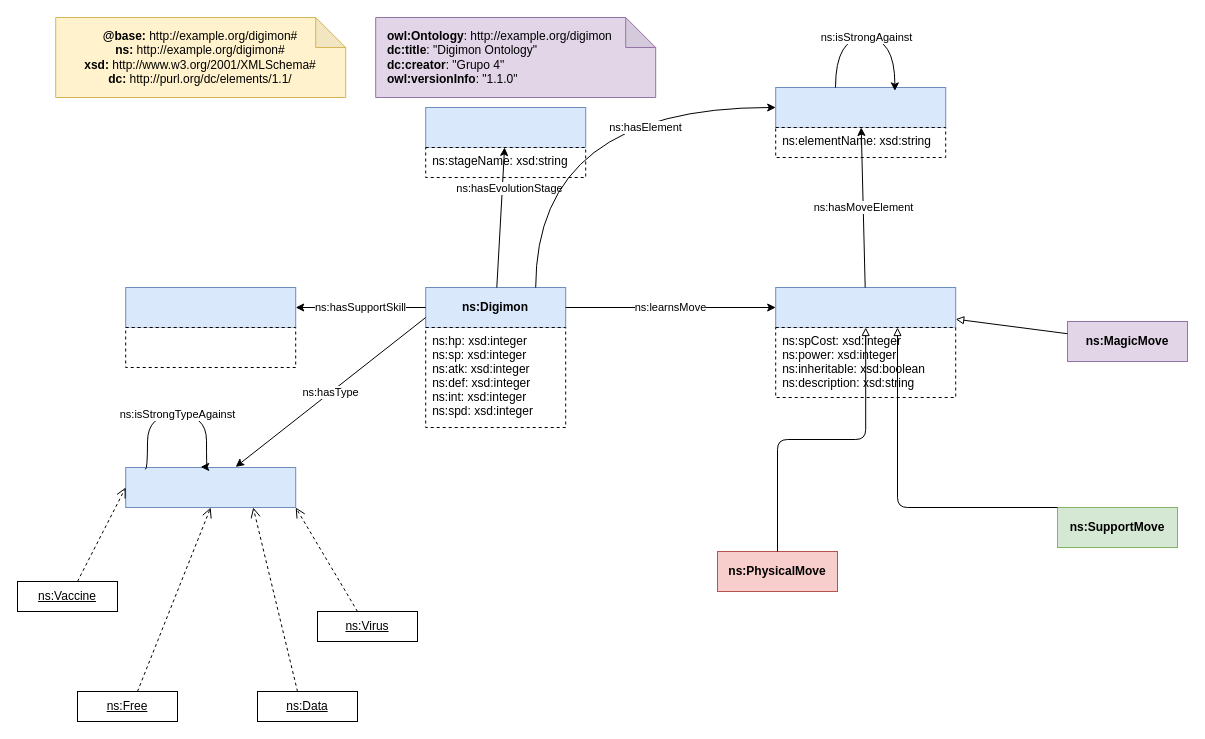
The diagram is 1205 pixels wide and 739 high, and some of its shapes have lost their labels. The centre of each missing label's shape, as x and y in pixels:
"ns:Element" goes at (x=860, y=107).
"ns:EvolutionStage" goes at (x=505, y=127).
"ns:Move" goes at (x=865, y=307).
"ns:skillName: xsd:string ns:description: xsd:string" goes at (x=210, y=347).
"ns:SupportSkill" goes at (x=210, y=307).
"ns:Type" goes at (x=210, y=487).
